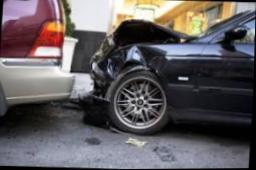Bonnet: (89, 17, 196, 67)
Bumper: (79, 72, 109, 114)
Fender: (97, 43, 203, 91)
